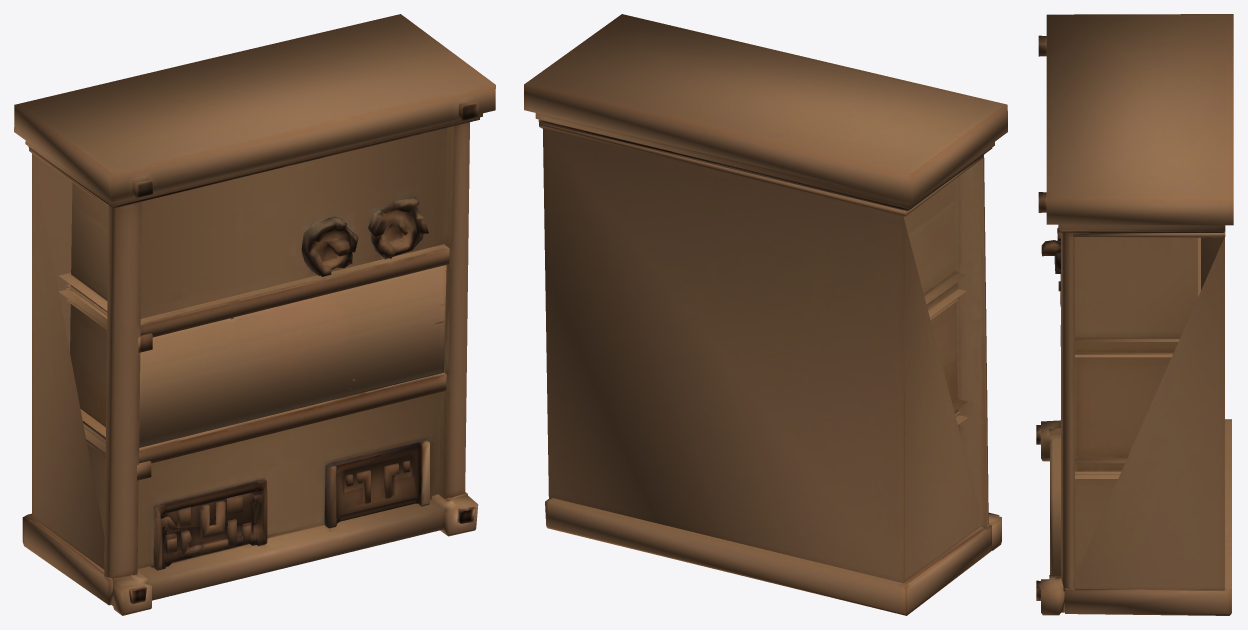
Rendered from shelf.glb.
3 renders of one model, left to right at view 1: azimuth 30°, elevation 25°; view 2: azimuth 150°, elevation 25°; view 3: azimuth 270°, elevation 25°, orthographic. The views are drawn at different scales.
Visible parts, largest first — view 1: tripo_node_b1c585e8-51b5-41ec-aa69-e306e80bd066; view 2: tripo_node_b1c585e8-51b5-41ec-aa69-e306e80bd066; view 3: tripo_node_b1c585e8-51b5-41ec-aa69-e306e80bd066.
Part boxes in pixels (x1,y1,x2,y2): tripo_node_b1c585e8-51b5-41ec-aa69-e306e80bd066: [14, 14, 495, 615]; tripo_node_b1c585e8-51b5-41ec-aa69-e306e80bd066: [524, 14, 1007, 615]; tripo_node_b1c585e8-51b5-41ec-aa69-e306e80bd066: [1036, 14, 1233, 615].
Size of the model in its own units: 0.9146 by 0.9995 by 0.4165.
1 material, 1 textured.
